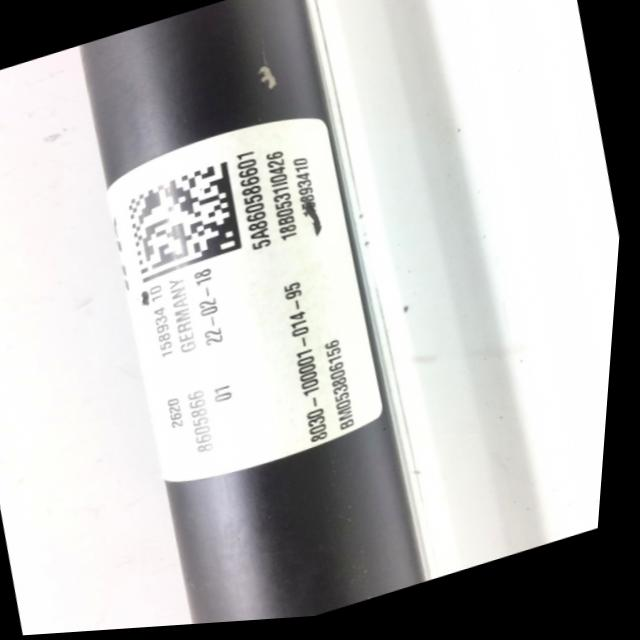datamatrix: (124, 163, 253, 286)
